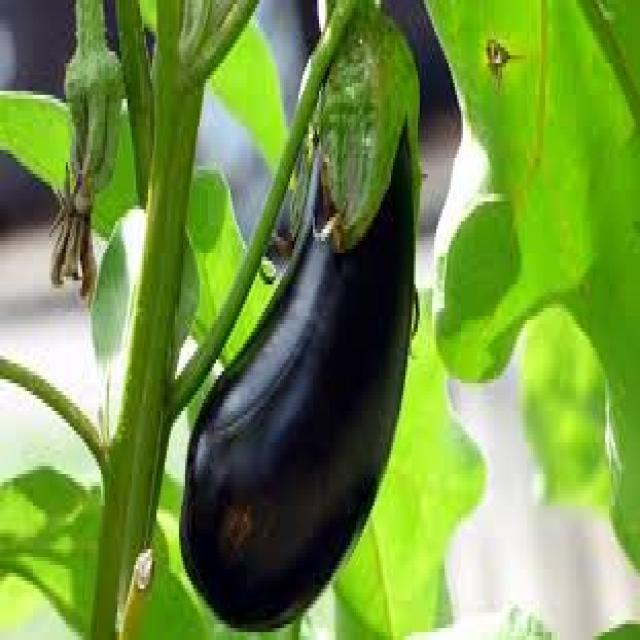eggplant: (181, 12, 416, 624)
